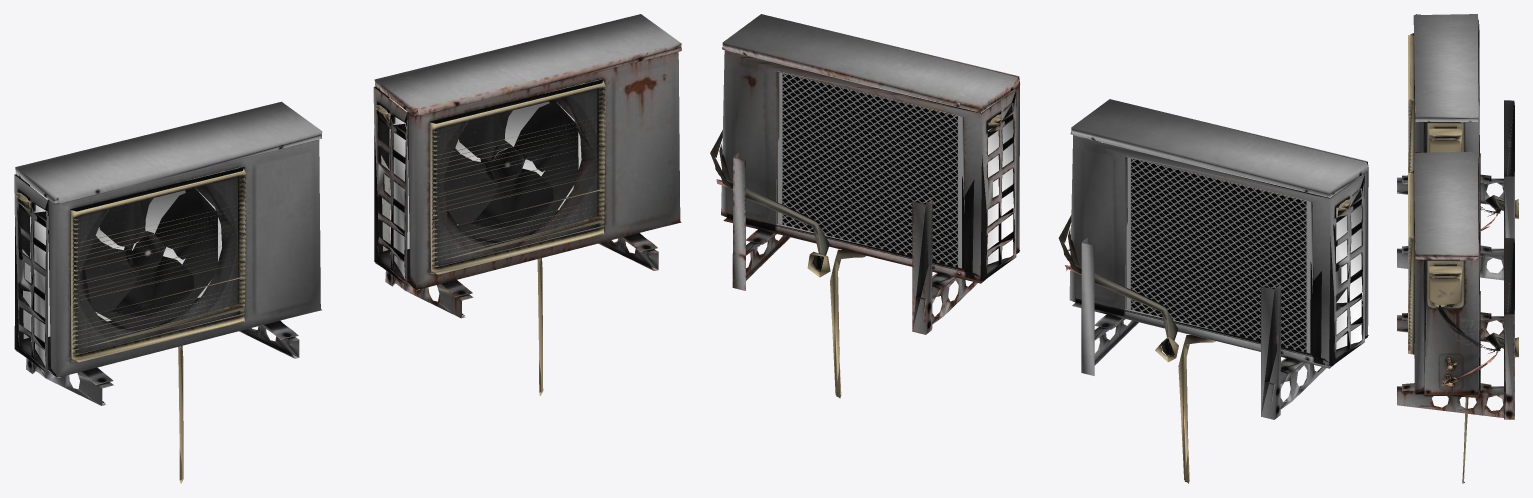
Rendered from aircon-medium.glb.
3 renders of one model, left to right at view 1: azimuth 30°, elevation 25°; view 2: azimuth 150°, elevation 25°; view 3: azimuth 270°, elevation 25°, orthographic. The views are drawn at different scales.
Visible parts, largest first — view 1: exterior_aircon_unit baked, exterior_aircon_unit_rusted baked; view 2: exterior_aircon_unit_rusted baked, exterior_aircon_unit baked; view 3: exterior_aircon_unit_rusted baked, exterior_aircon_unit baked.
Part boxes in pixels (bbox=[...]): exterior_aircon_unit baked: bbox=[14, 101, 322, 483]; exterior_aircon_unit_rusted baked: bbox=[373, 14, 681, 395]; exterior_aircon_unit_rusted baked: bbox=[710, 14, 1019, 398]; exterior_aircon_unit baked: bbox=[1058, 99, 1368, 483]; exterior_aircon_unit_rusted baked: bbox=[1397, 151, 1518, 483]; exterior_aircon_unit baked: bbox=[1397, 14, 1518, 280].
Bounding box in the file's own units: 1.81 × 0.9281 × 0.3759.
4 materials, 4 textured.
